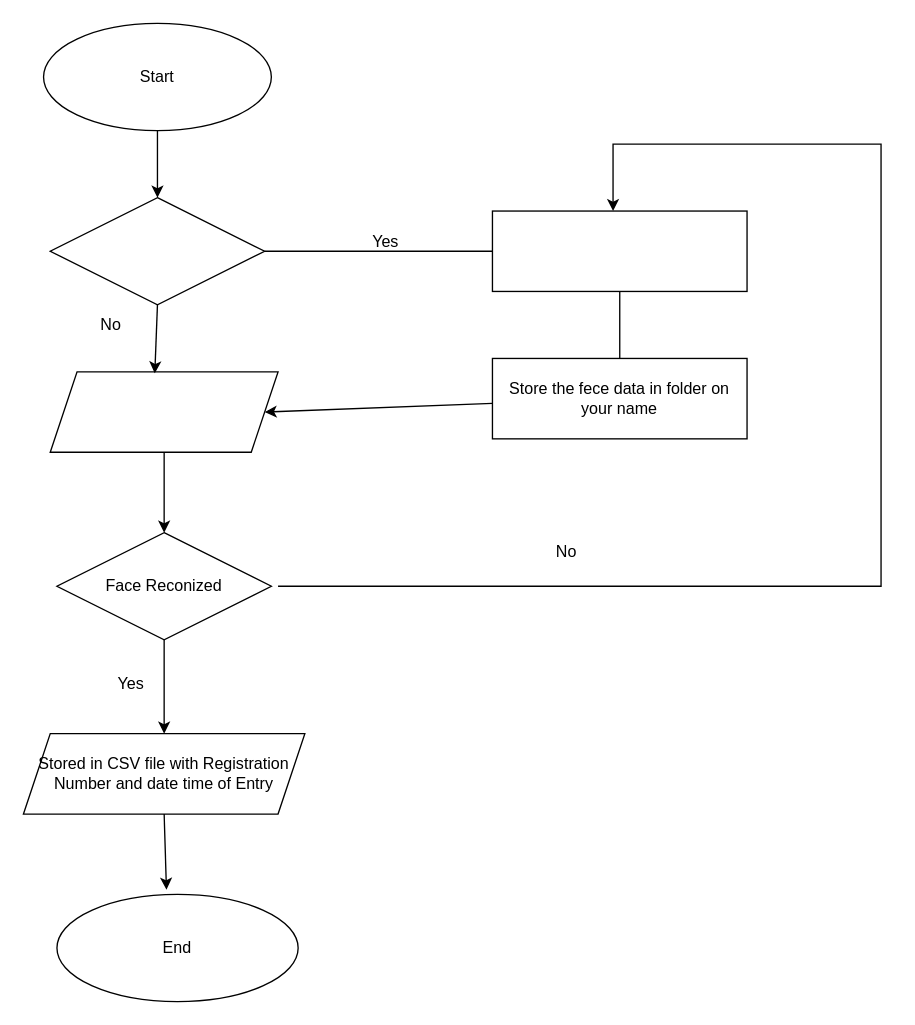
The diagram is 915 pixels wide and 1025 high, and some of its shapes have lost their labels. Here are the shapes that lost their labels. From the top down, the box of each, then its label:
(49, 196, 265, 305): NEW USER?
(491, 210, 747, 291): Give Your Photograph
(49, 371, 278, 452): Recognize
